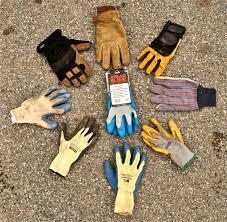gloves: (36, 29, 95, 88), (103, 141, 147, 216), (48, 116, 100, 178), (141, 117, 196, 169), (10, 86, 73, 130), (90, 5, 131, 70), (149, 76, 217, 112), (102, 70, 138, 137)
